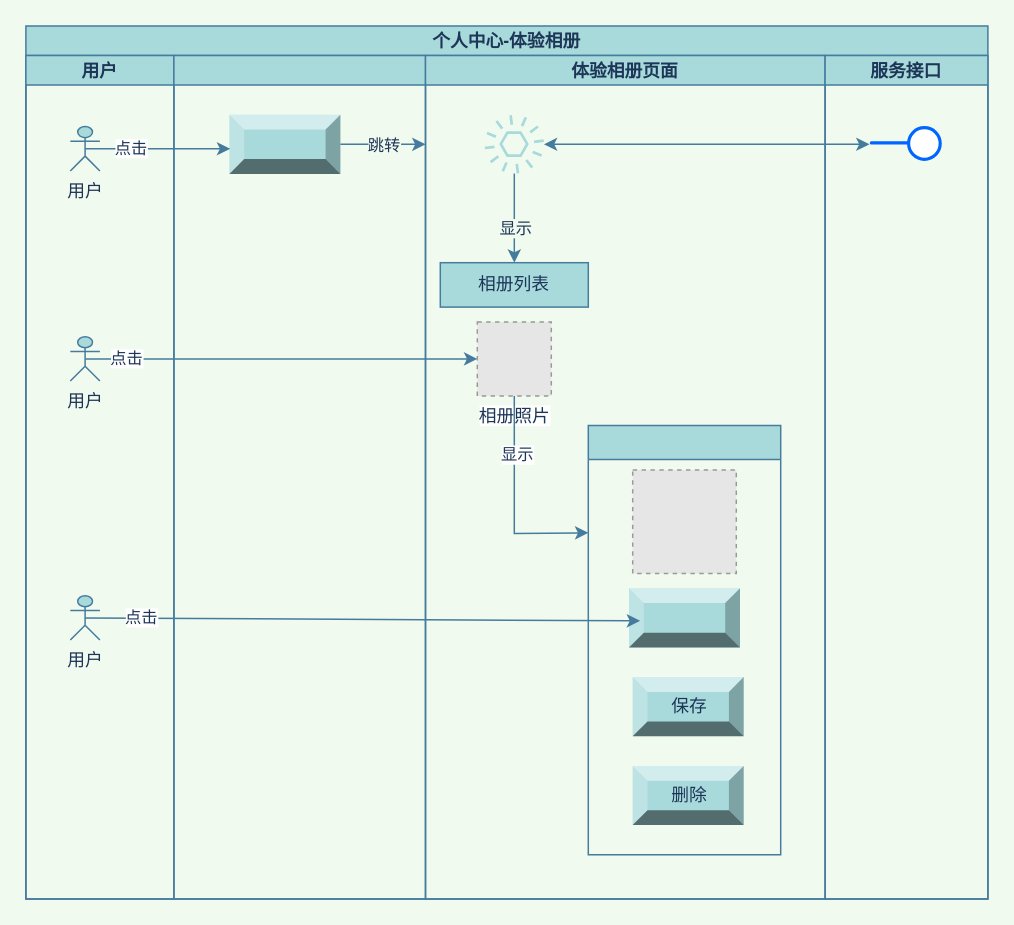
This 1014x925 diagram has some shape labels left out. Grey dashed boxes stand in for pictures. Here are the shapes that lost their labels. From the top down, the box of each, then its label:
(229, 114, 340, 173): 体验相册
(484, 114, 543, 173): 页面加载
(869, 126, 943, 161): 根据已体验的场馆 获取出馆照片接口
(172, 54, 426, 899): 个人中心页面
(628, 588, 739, 647): 分享
(587, 424, 781, 855): 照片弹窗
